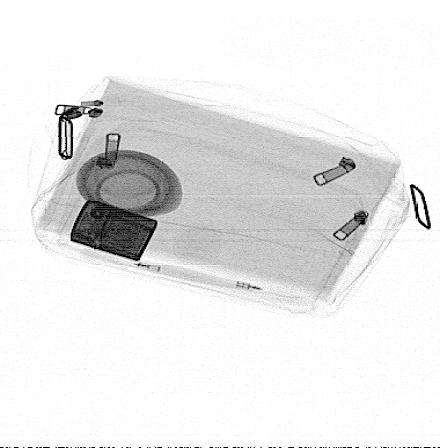Lighter: (69, 200, 160, 262)
